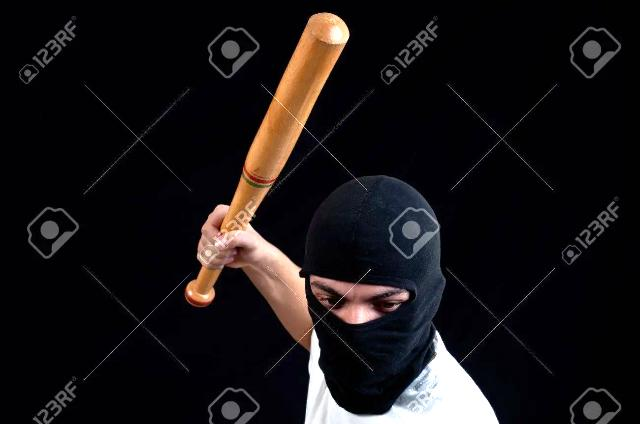baseball bat: (186, 8, 350, 312)
